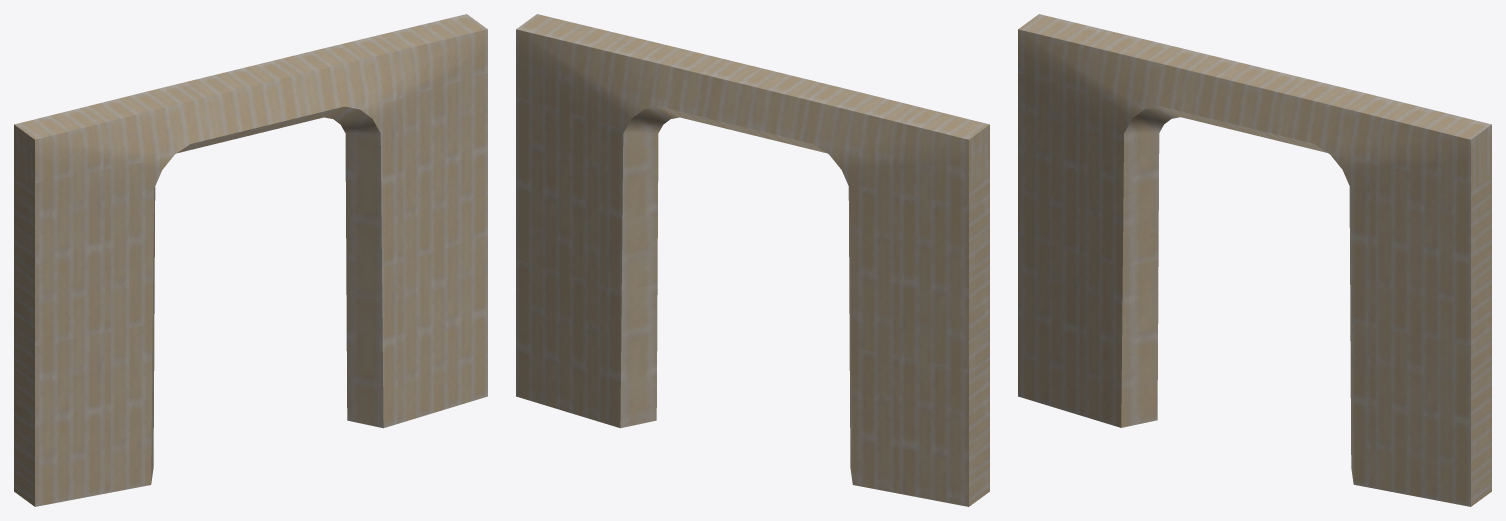
File: new_arcwall.fbx
The picture shows the model from 3 angles, left to right: view 1: azimuth 30°, elevation 25°; view 2: azimuth 150°, elevation 25°; view 3: azimuth 330°, elevation 25°; orthographic projection.
Visible parts, largest first — view 1: Environment_Arc12; view 2: Environment_Arc12; view 3: Environment_Arc12.
Part boxes in pixels (left/top/right/bottom): Environment_Arc12: left=14, top=14, right=487, bottom=506; Environment_Arc12: left=516, top=14, right=989, bottom=506; Environment_Arc12: left=1018, top=14, right=1491, bottom=506.
Bounding box in the file's own units: 330 × 256 × 42.8.
Materials: 1 (1 with a texture image).
